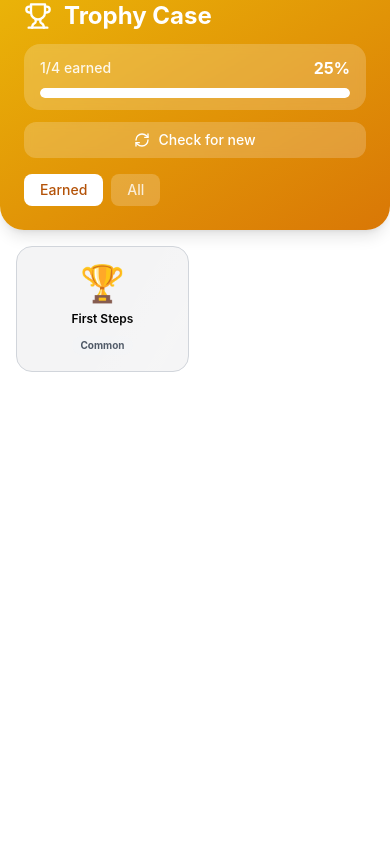
Test case: TrophyCase › opens detail modal when earned trophy is tapped
The width and height of the screenshot is (390, 844).
Click the button "🏆 First Steps Common": (102, 309) [16,246,189,372]
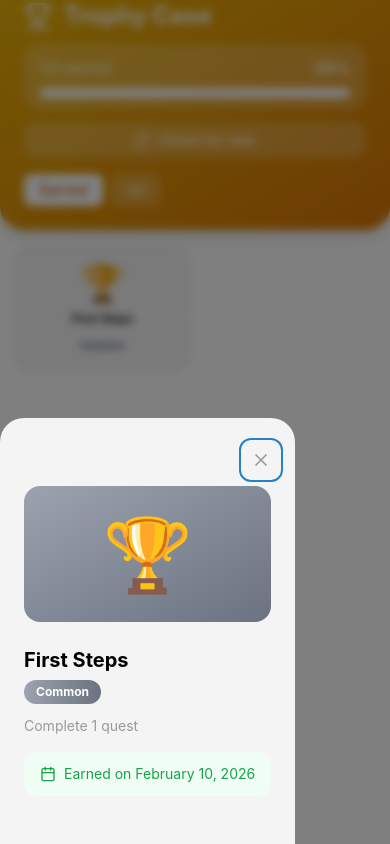
Now the text "Complete 1 quest" is shown, box [24,717,138,734]
